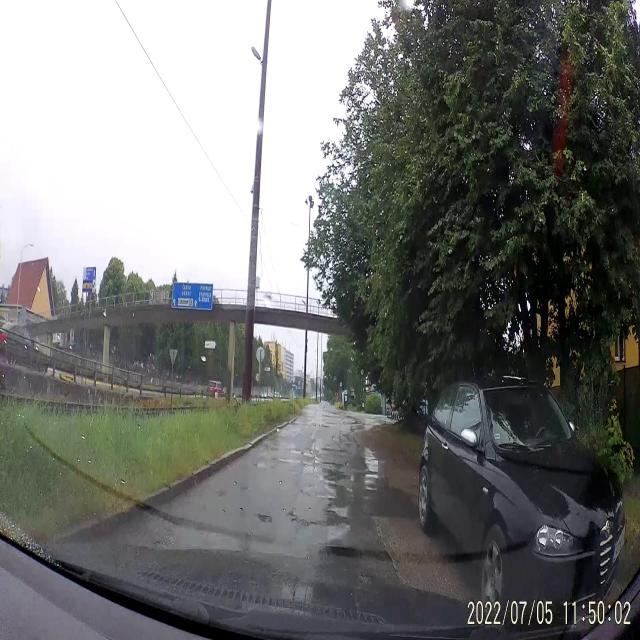Pothole: (282, 503, 337, 532), (258, 508, 274, 528)
